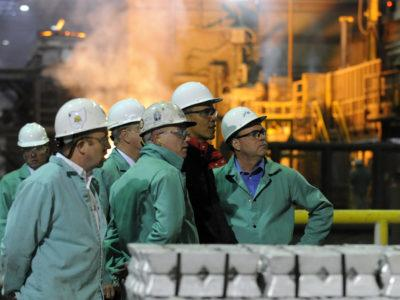helmet: (54, 101, 113, 139), (140, 103, 196, 134), (223, 108, 267, 147), (173, 81, 224, 110), (108, 101, 145, 132), (18, 124, 51, 149)
